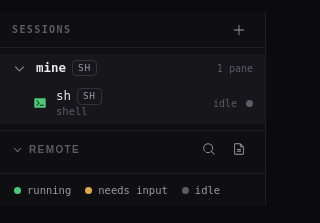
Test: Sidebar — a session's right-click menu › Reset name goes back to the live title, in the sidebar and the store
This screenshot has width=320, height=223.
Expected: the text "mine" is shown, [36,60,66,76]
Right-click the element with class "tree-row" showing "mine sh 1 pane": (132, 68) [0,54,265,82]
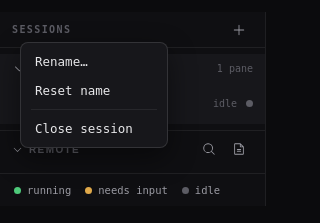
Press the mouse on the button with class "shell-menu-item" showing "Reset name": (94, 90) [25,76,163,105]
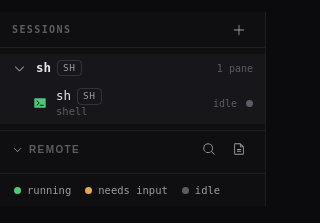
Now the text "mine" is gone
